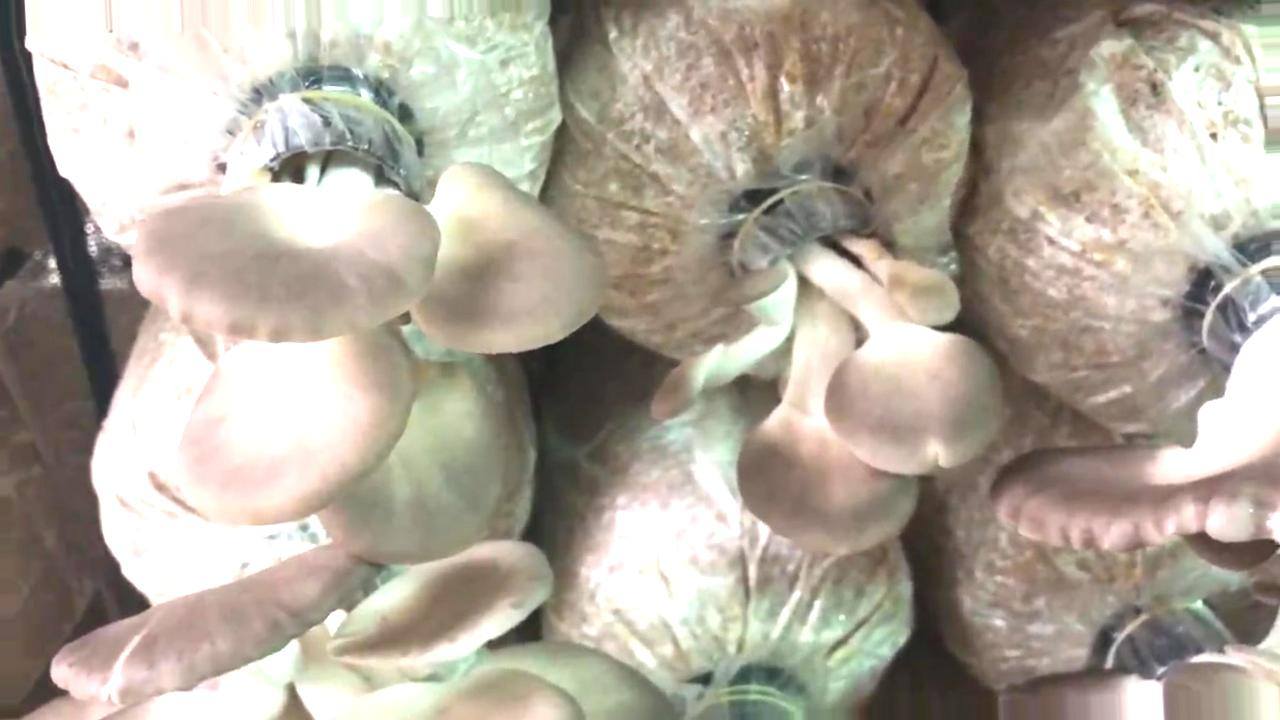nam: (130, 70, 611, 568), (649, 187, 1003, 557), (27, 545, 682, 720), (1016, 449, 1280, 544)
